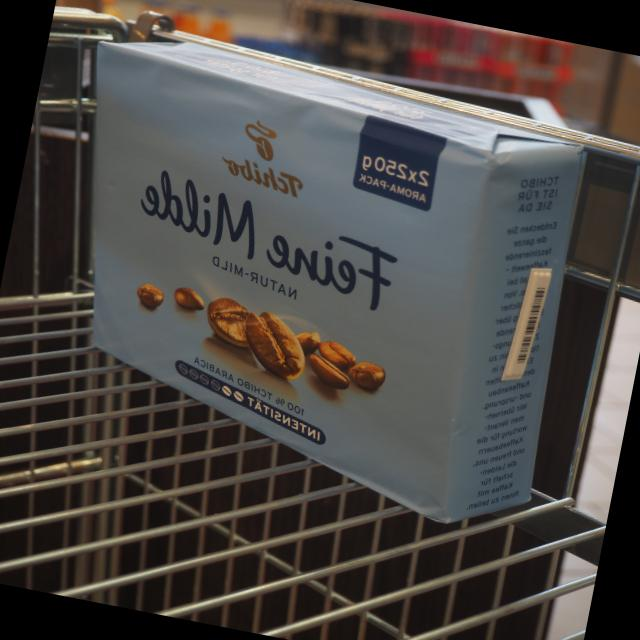FM Gemahlen: (87, 3, 595, 572)
